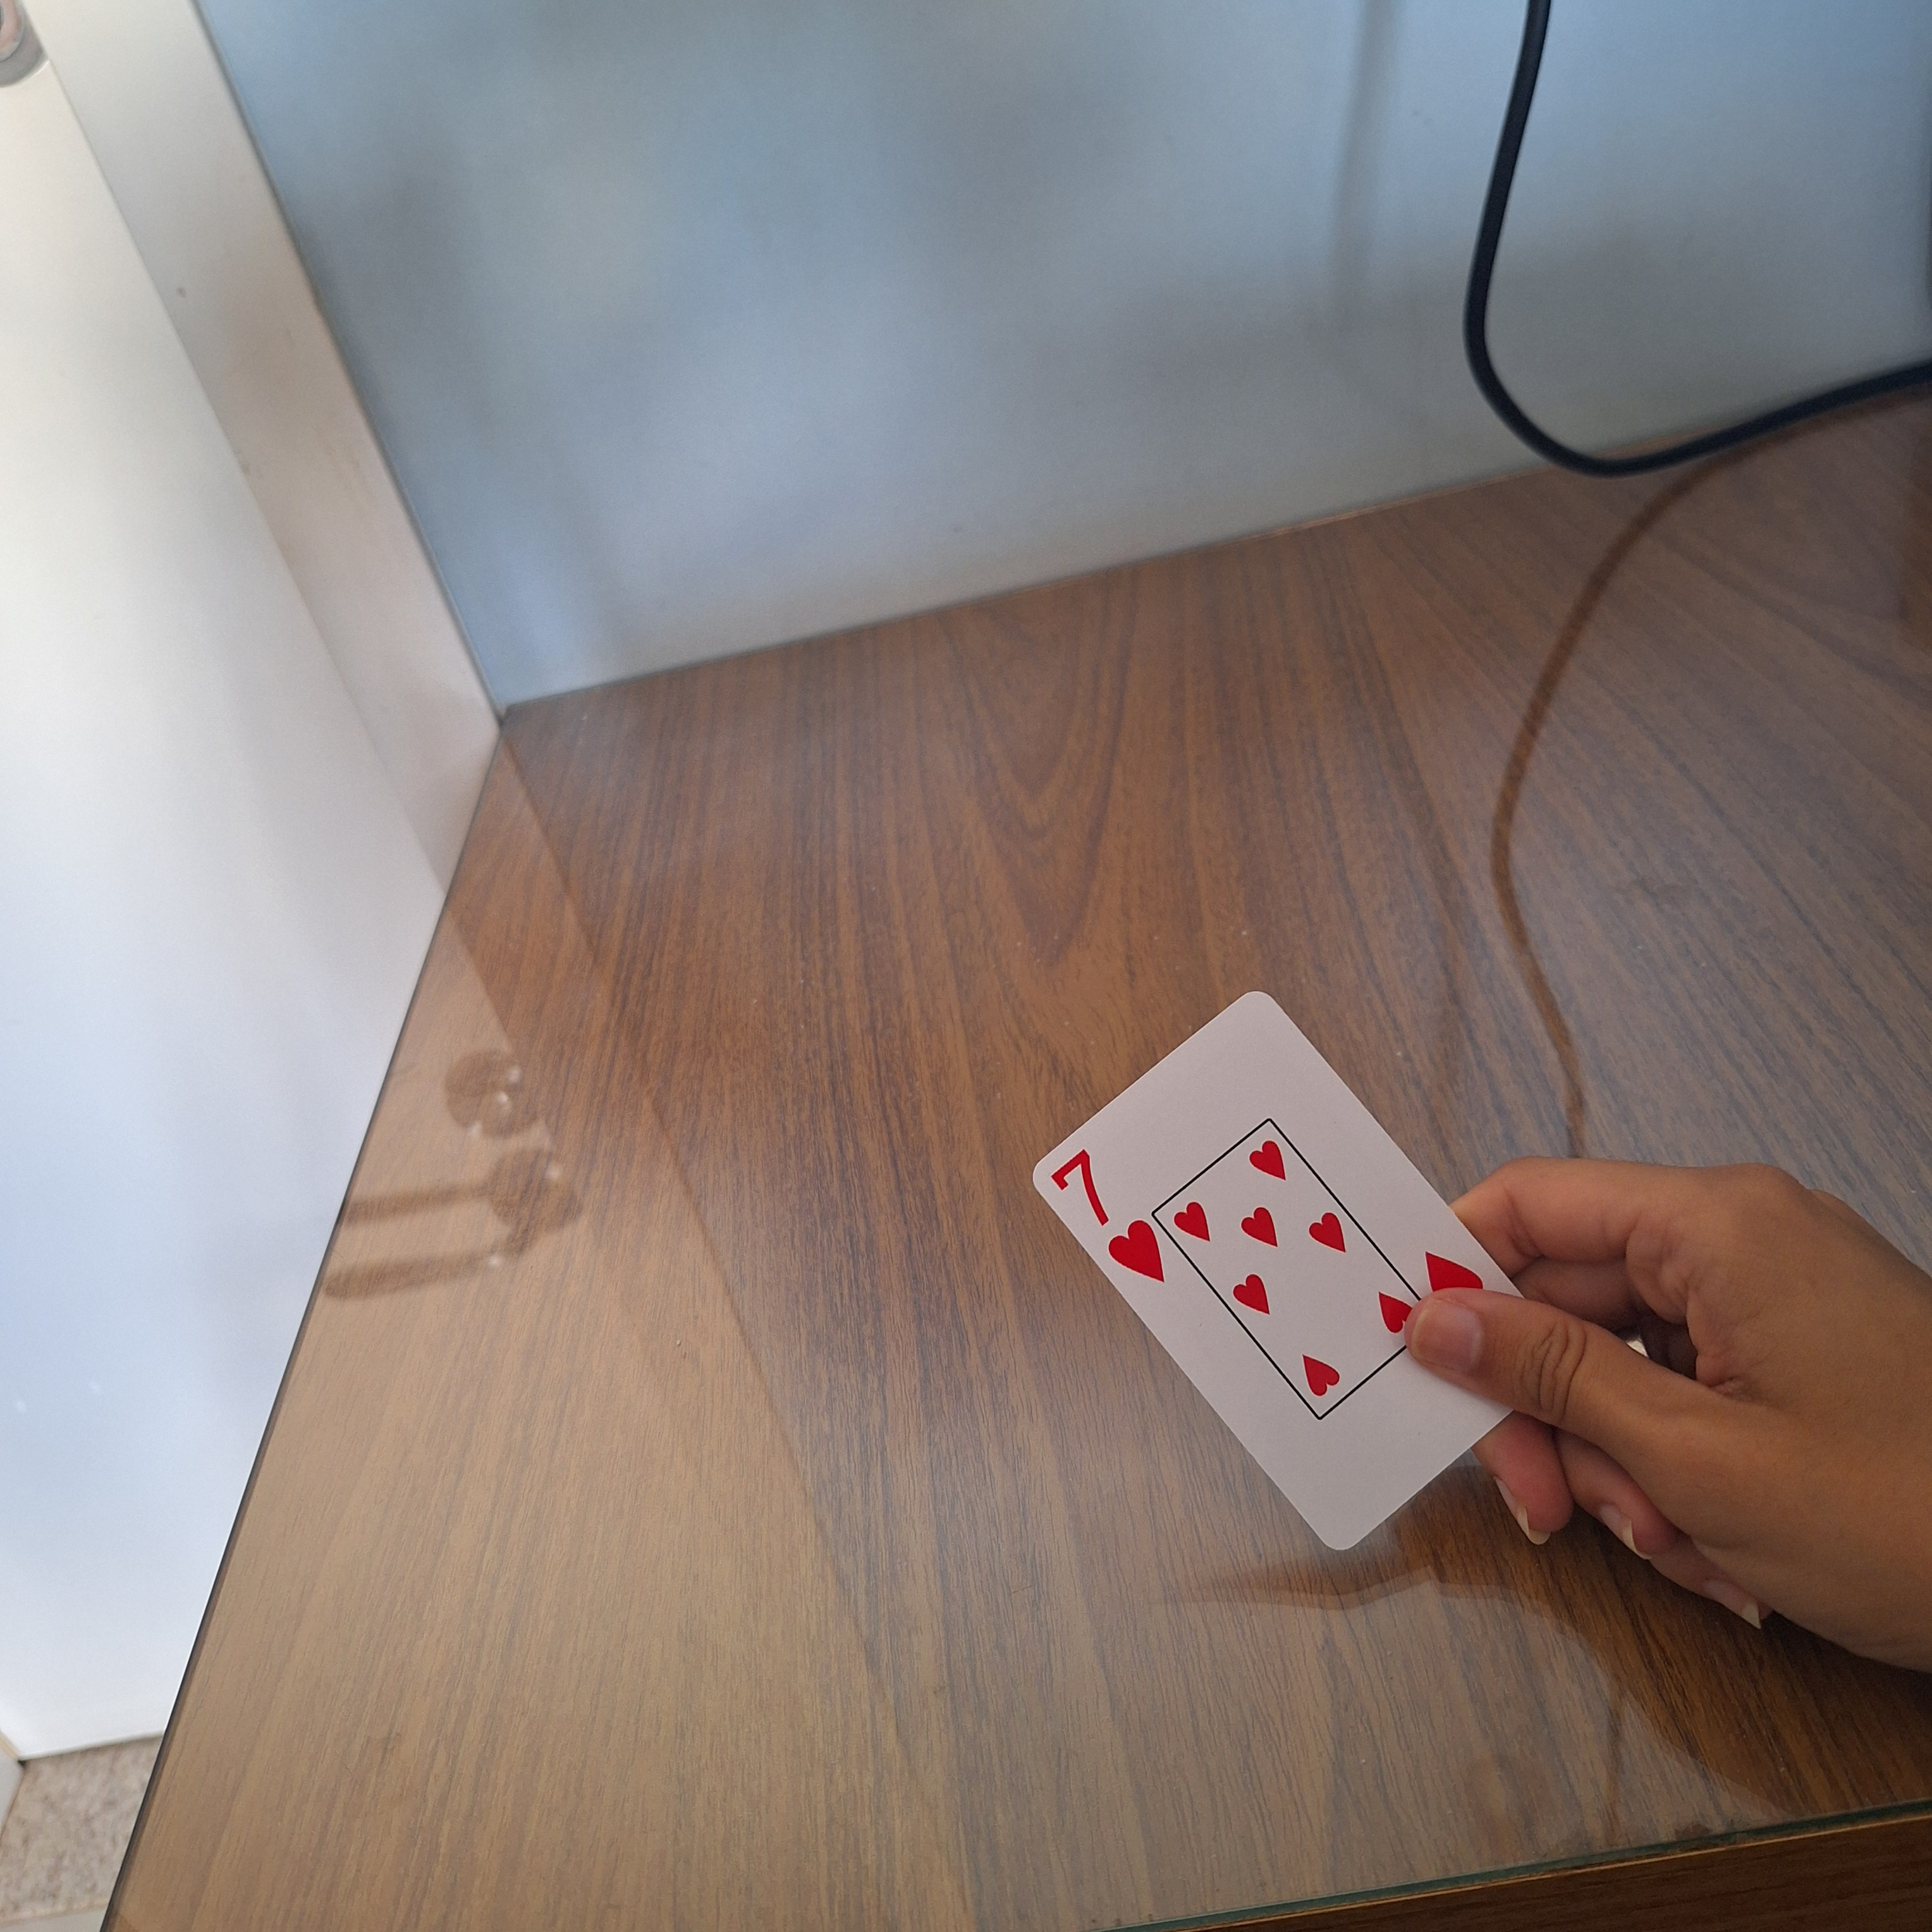7C: (1042, 1139, 1175, 1290)
